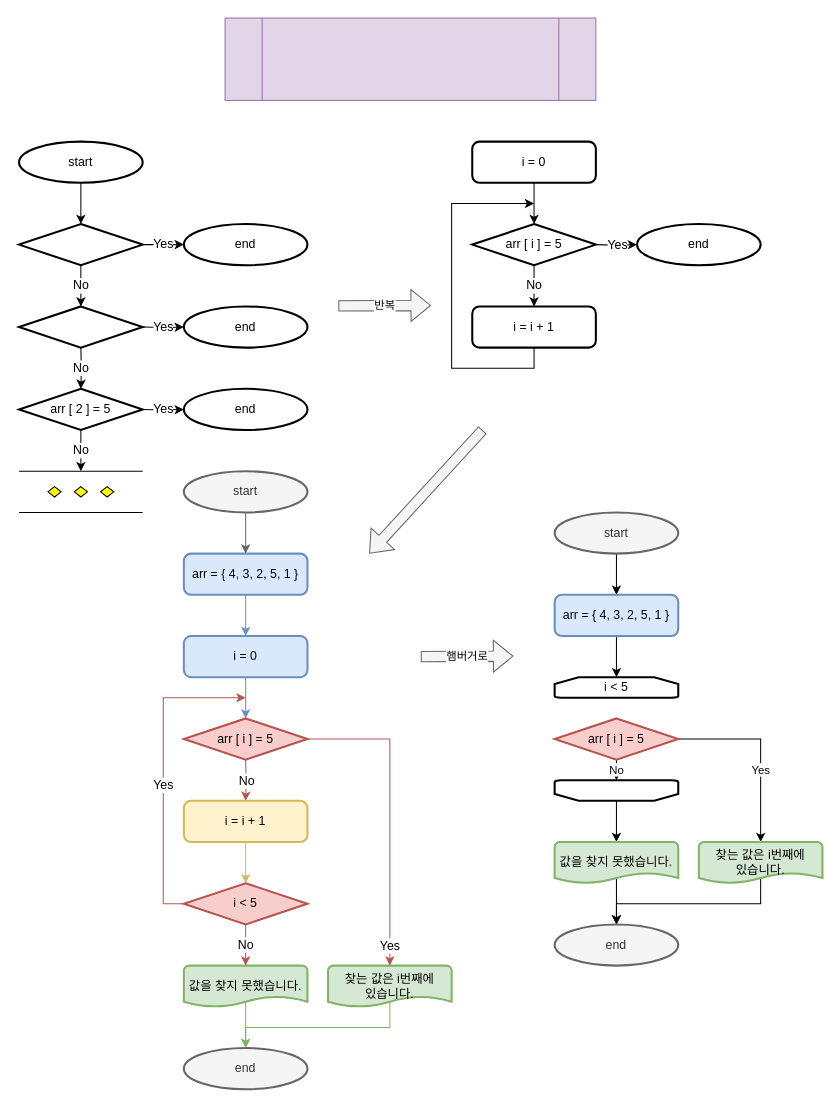
Some shapes in this 840 by 1108 pixel diagram are drawn without their labels. The shapes that lost their labels are listed below. From the top down, each one's centre as x and y in pixels, then its label:
At (x=410, y=58): "Linear Search".
At (x=80, y=244): "arr [ 0 ] = 5".
At (x=80, y=326): "arr [ 1 ] = 5".
